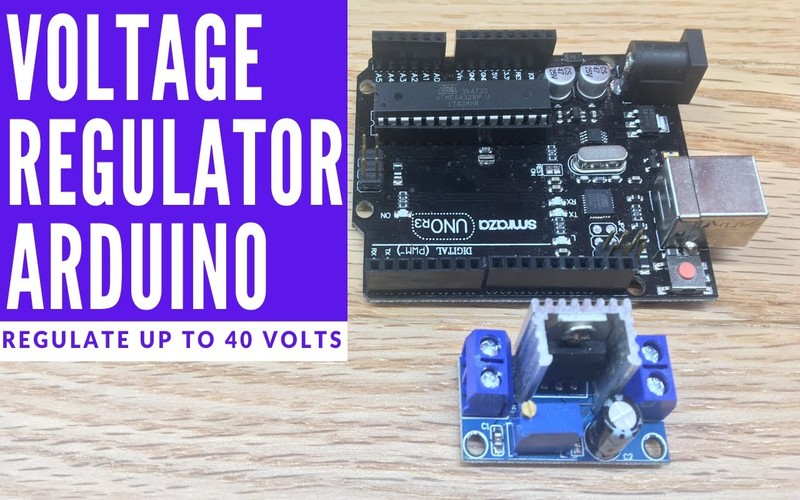Regulator: (346, 8, 758, 290), (509, 286, 658, 477)
